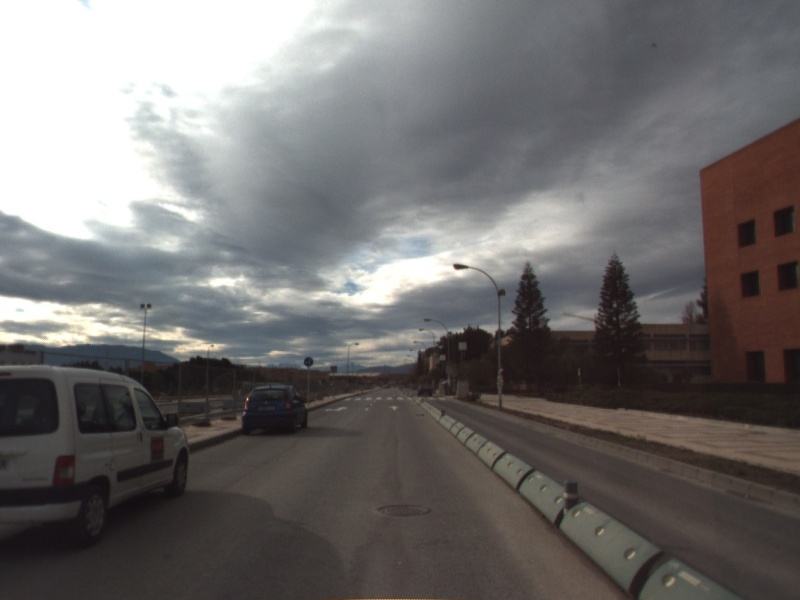STRAIGHT: (387, 404, 401, 412)
STRAIGHT_LEFT: (323, 404, 350, 414)
